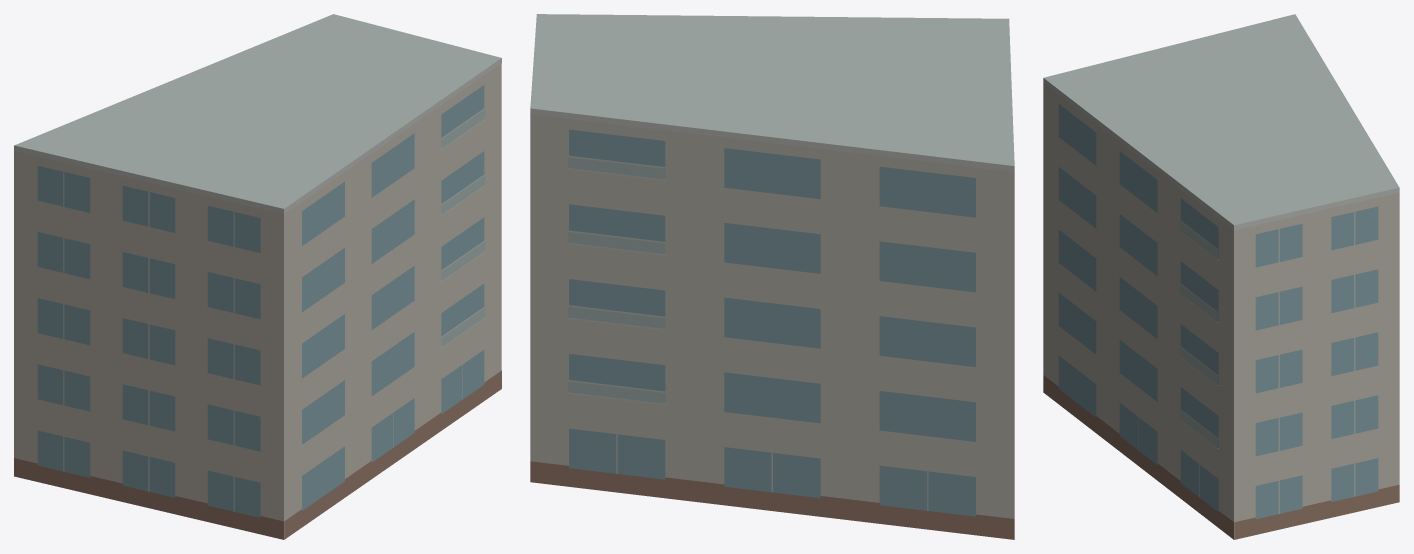
Rendered from survey-upis-32653165.glb.
3 views of the same model, side by side, from view 1: azimuth 30°, elevation 25°; view 2: azimuth 150°, elevation 25°; view 3: azimuth 270°, elevation 25° (orthographic). The views are drawn at different scales.
Parts seen in each view (by area): view 1: survey-upis-32653165.tmp; view 2: survey-upis-32653165.tmp; view 3: survey-upis-32653165.tmp.
Part boxes in pixels (x1,y1,x2,y2): survey-upis-32653165.tmp: (14,14,501,539); survey-upis-32653165.tmp: (530,14,1014,539); survey-upis-32653165.tmp: (1043,14,1399,539).
Size of the model in its own units: 21.97 by 15.25 by 15.66.
